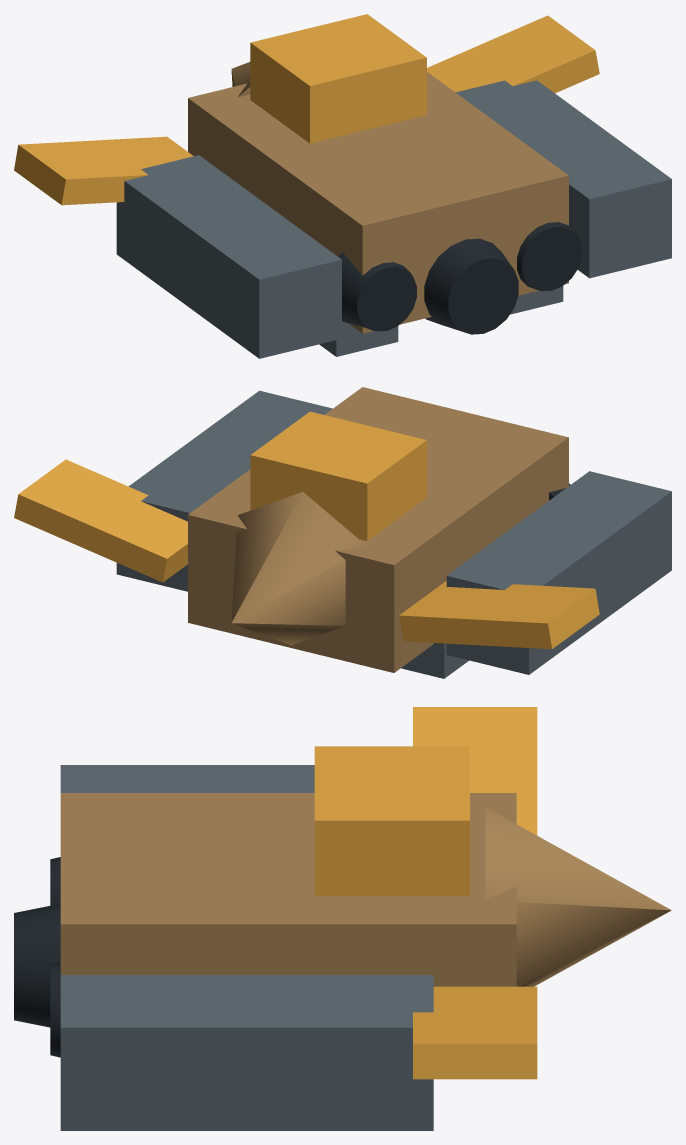
The model's file is mule-lx.glb.
3 views of the same model, one above another, from view 1: azimuth 30°, elevation 25°; view 2: azimuth 150°, elevation 25°; view 3: azimuth 270°, elevation 25° (orthographic). The views are drawn at different scales.
Visible parts, largest first — view 1: wide cargo spine, outer cargo container -1, outer cargo container 1, dorsal bridge block, wide stabilizer -1, wide stabilizer 1, central freight engine, slow large nozzle -1, slow large nozzle 1, lower cargo cradle -1, lower cargo cradle 1; view 2: wide cargo spine, outer cargo container -1, dorsal bridge block, blunt bridge nose, wide stabilizer 1, wide stabilizer -1, outer cargo container 1, lower cargo cradle -1; view 3: wide cargo spine, outer cargo container 1, dorsal bridge block, blunt bridge nose, wide stabilizer 1, wide stabilizer -1, outer cargo container -1, central freight engine, slow large nozzle 1.
Part boxes in pixels (x1=…): wide cargo spine: x1=188, y1=72, x2=568, y2=333; outer cargo container -1: x1=116, y1=155, x2=341, y2=358; outer cargo container 1: x1=455, y1=80, x2=671, y2=278; dorsal bridge block: x1=250, y1=14, x2=426, y2=143; wide stabilizer -1: x1=14, y1=136, x2=193, y2=205; wide stabilizer 1: x1=427, y1=15, x2=599, y2=93; central freight engine: x1=424, y1=238, x2=518, y2=334; slow large nozzle -1: x1=337, y1=252, x2=416, y2=331; slow large nozzle 1: x1=517, y1=222, x2=581, y2=291; lower cargo cradle -1: x1=319, y1=321, x2=398, y2=356; lower cargo cradle 1: x1=510, y1=286, x2=563, y2=314; wide cargo spine: x1=188, y1=387, x2=568, y2=672; outer cargo container -1: x1=446, y1=471, x2=671, y2=674; dorsal bridge block: x1=250, y1=411, x2=426, y2=540; blunt bridge nose: x1=231, y1=492, x2=367, y2=645; wide stabilizer 1: x1=14, y1=459, x2=187, y2=582; wide stabilizer -1: x1=399, y1=581, x2=599, y2=649; outer cargo container 1: x1=116, y1=390, x2=332, y2=591; lower cargo cradle -1: x1=401, y1=643, x2=468, y2=678; wide cargo spine: x1=60, y1=793, x2=516, y2=986; outer cargo container 1: x1=60, y1=975, x2=433, y2=1130; dorsal bridge block: x1=314, y1=746, x2=469, y2=895; blunt bridge nose: x1=485, y1=807, x2=671, y2=986; wide stabilizer 1: x1=413, y1=986, x2=537, y2=1079; wide stabilizer -1: x1=413, y1=707, x2=537, y2=835; outer cargo container -1: x1=60, y1=765, x2=314, y2=792; central freight engine: x1=14, y1=903, x2=60, y2=1027; slow large nozzle 1: x1=50, y1=962, x2=60, y2=1057.
Size of the model in its own units: 78.27 by 27.5 by 63.5.
